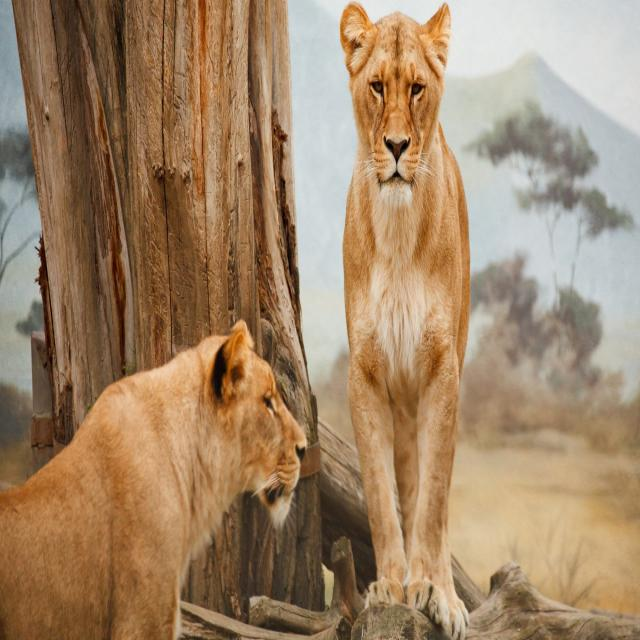Lion: (0, 317, 307, 638), (338, 1, 472, 638)
